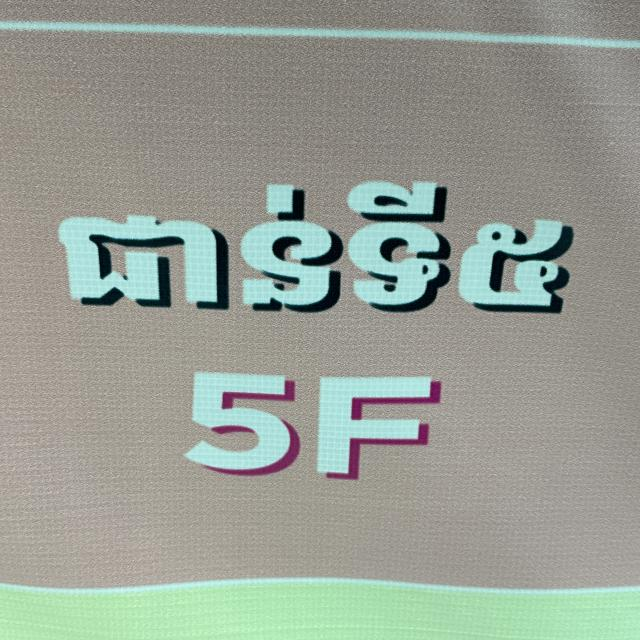764: (154, 356, 309, 495)
Yolov11_80vkh: (19, 160, 588, 340)
